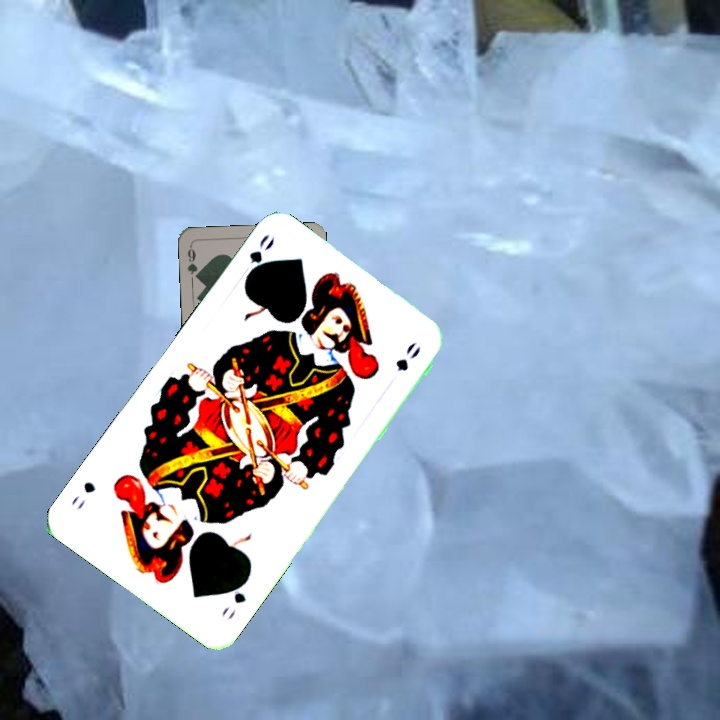G9: (183, 242, 202, 282)
GO: (240, 229, 278, 285), (217, 573, 252, 622)
